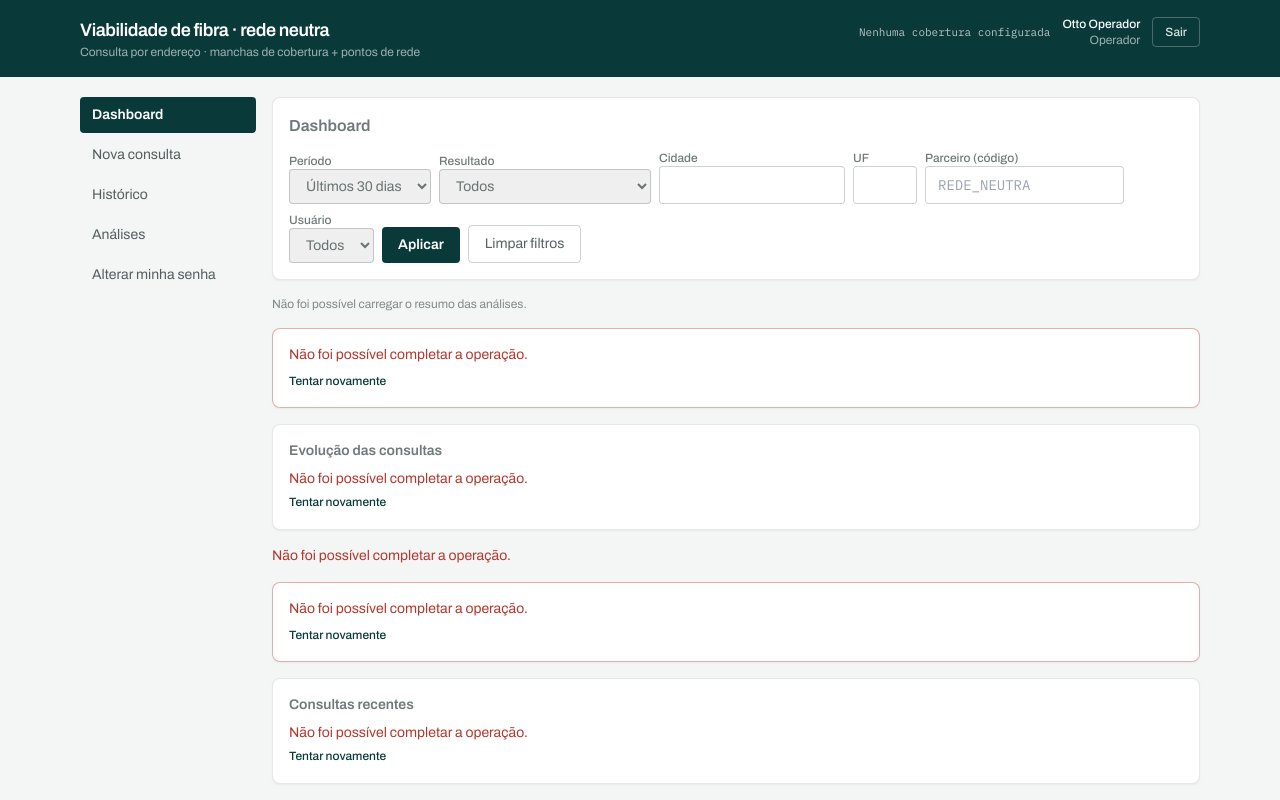
Test: tela de login › logout encerra a sessão e volta ao login
Click the button "Sair" at x=1176, y=32, box [1152,17,1200,47]
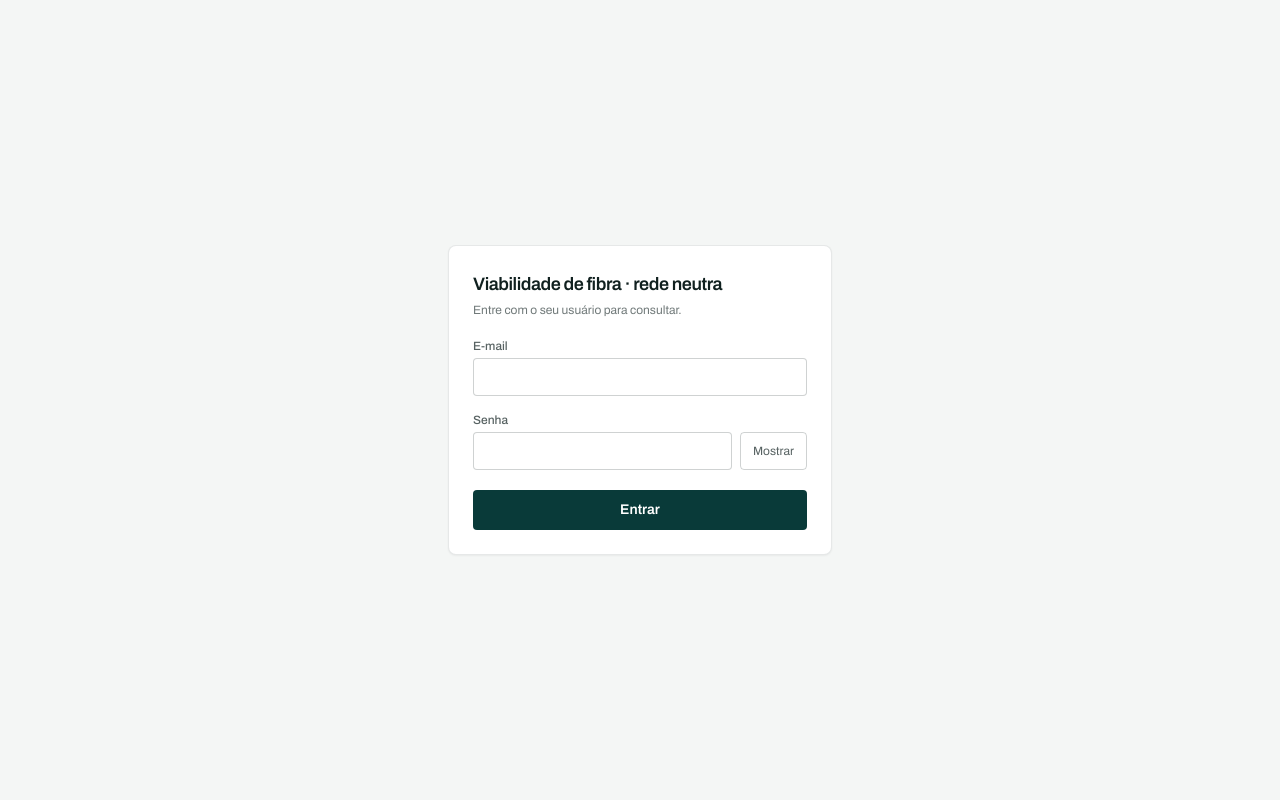
Expected: the field labelled "E-mail" is shown, [473,358,807,396]
